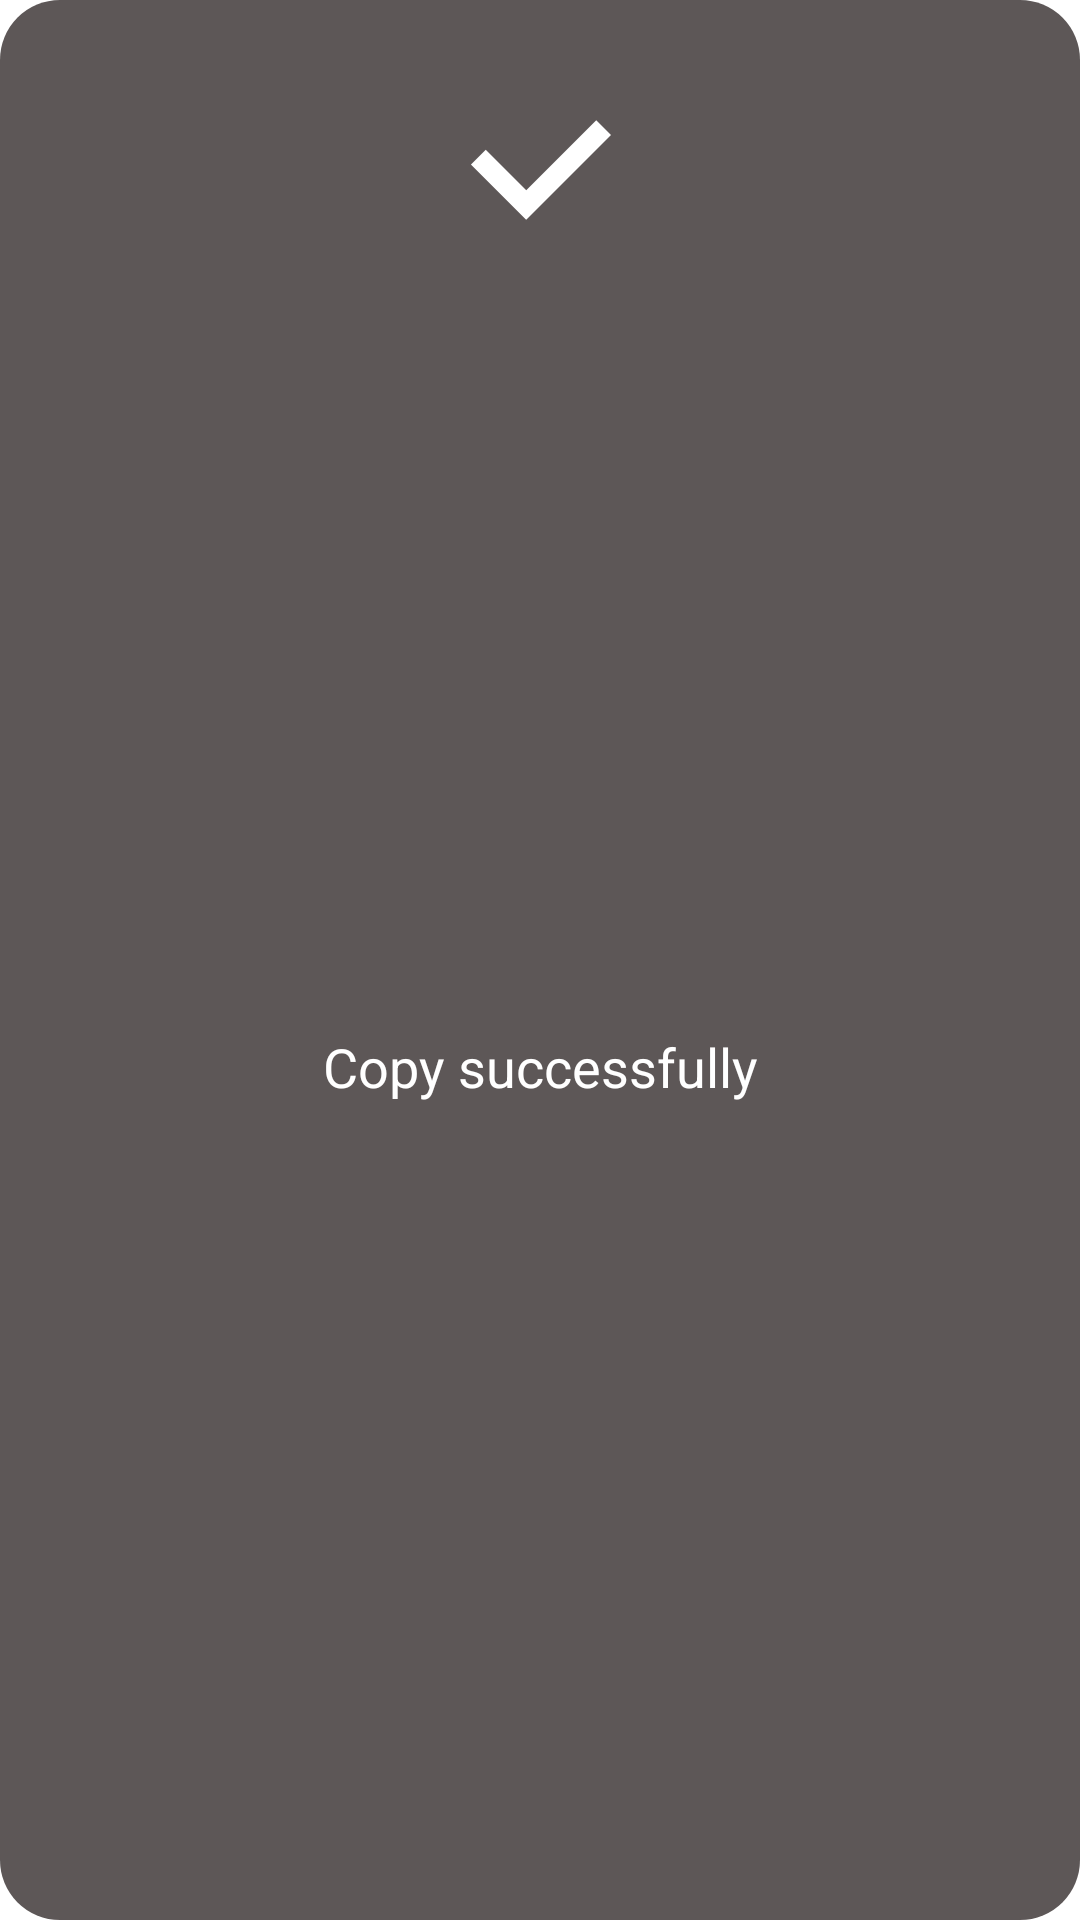

Point at icon controls on the screen. Image size 1080*1920, points as point (x, y).
right: point (541, 170)
